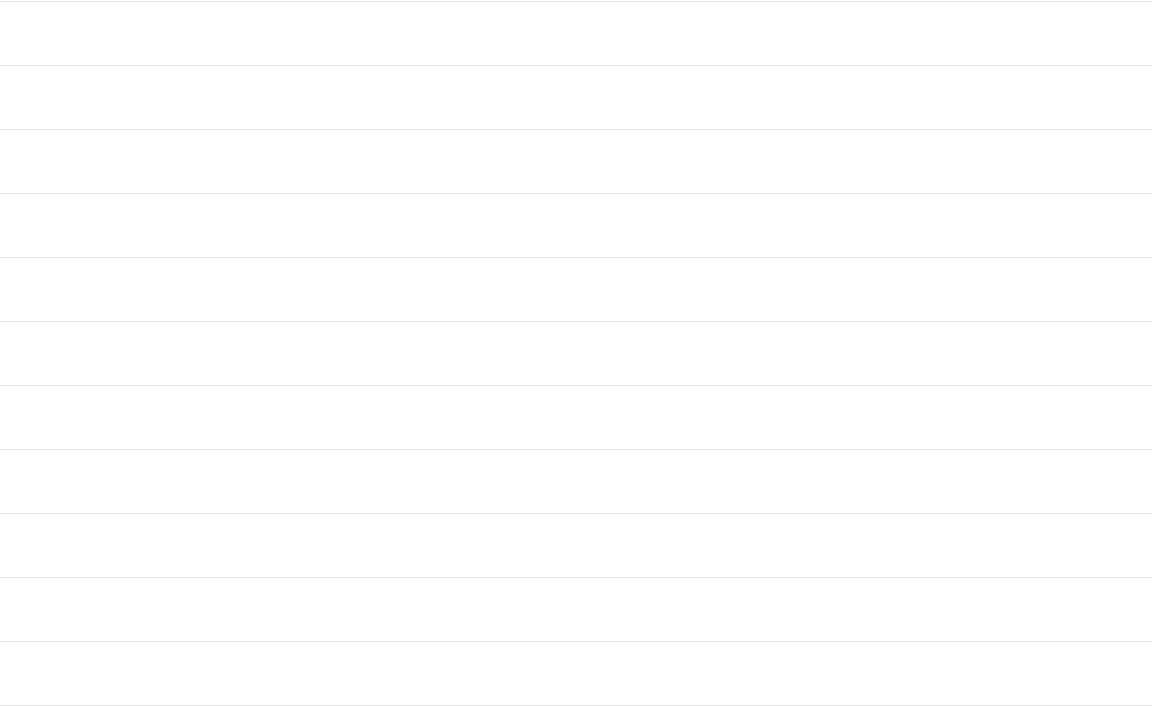
it: DayColumn › opens a prefilled create dialog when an empty slot is tapped
(page scrolled)
Step 1. Click the button named "Add event at 14:00 on July 8, 2026" → (576, 353), box [0, 321, 1151, 385]
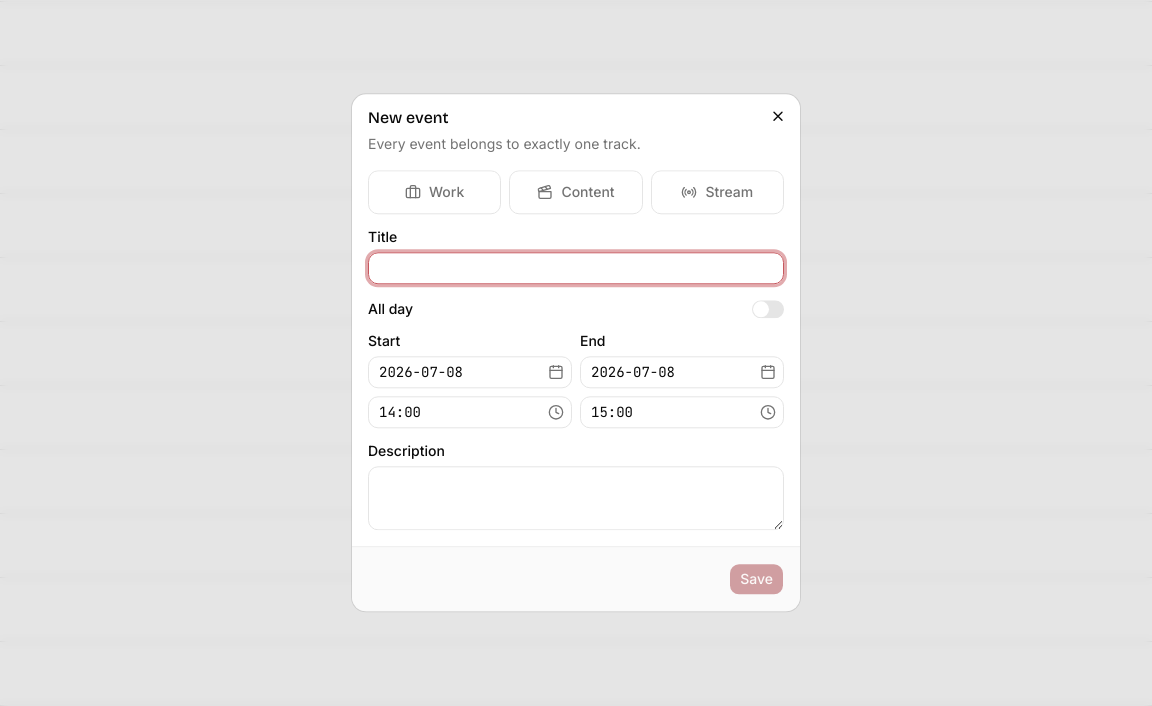
Check: the dialog "New event" is shown, box [352, 94, 800, 612]
Check: the field named "Start time" holds "14:00", box [369, 397, 544, 429]
Check: the field named "End time" holds "15:00", box [581, 397, 756, 429]
